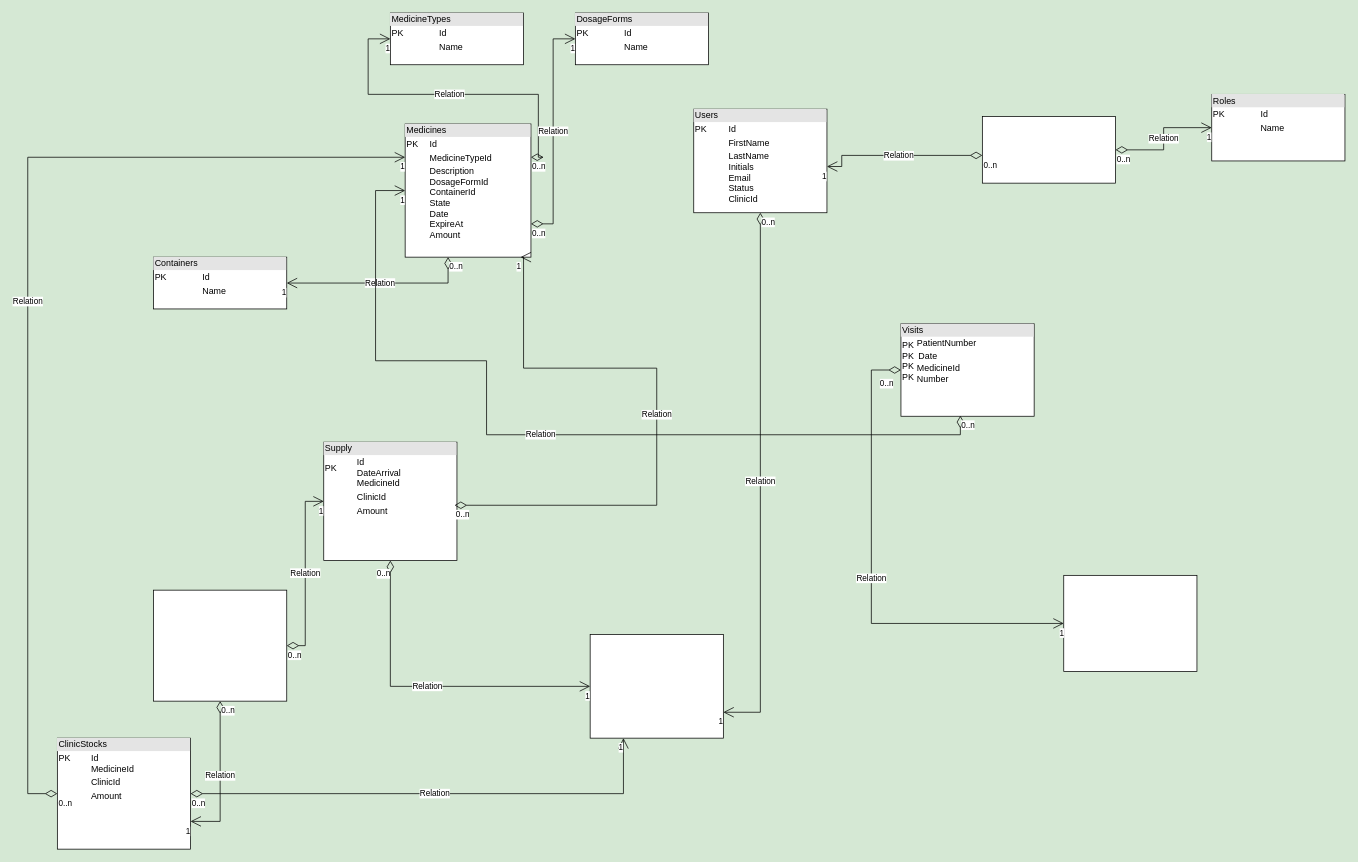
This 1358x862 diagram has some shape labels left out. The centre of each missing label's shape, as x and y in pixels:
Clinics PK Id Name City AddressOne AddressTwo Phone: point (656, 686)
ClinicStocks PK SupplyId ClinicStockId: point (220, 645)
Patients PK Number DateOfBirth Sex Status: point (1130, 623)
UserRoles PK RoleId PK UserId: point (1049, 149)
